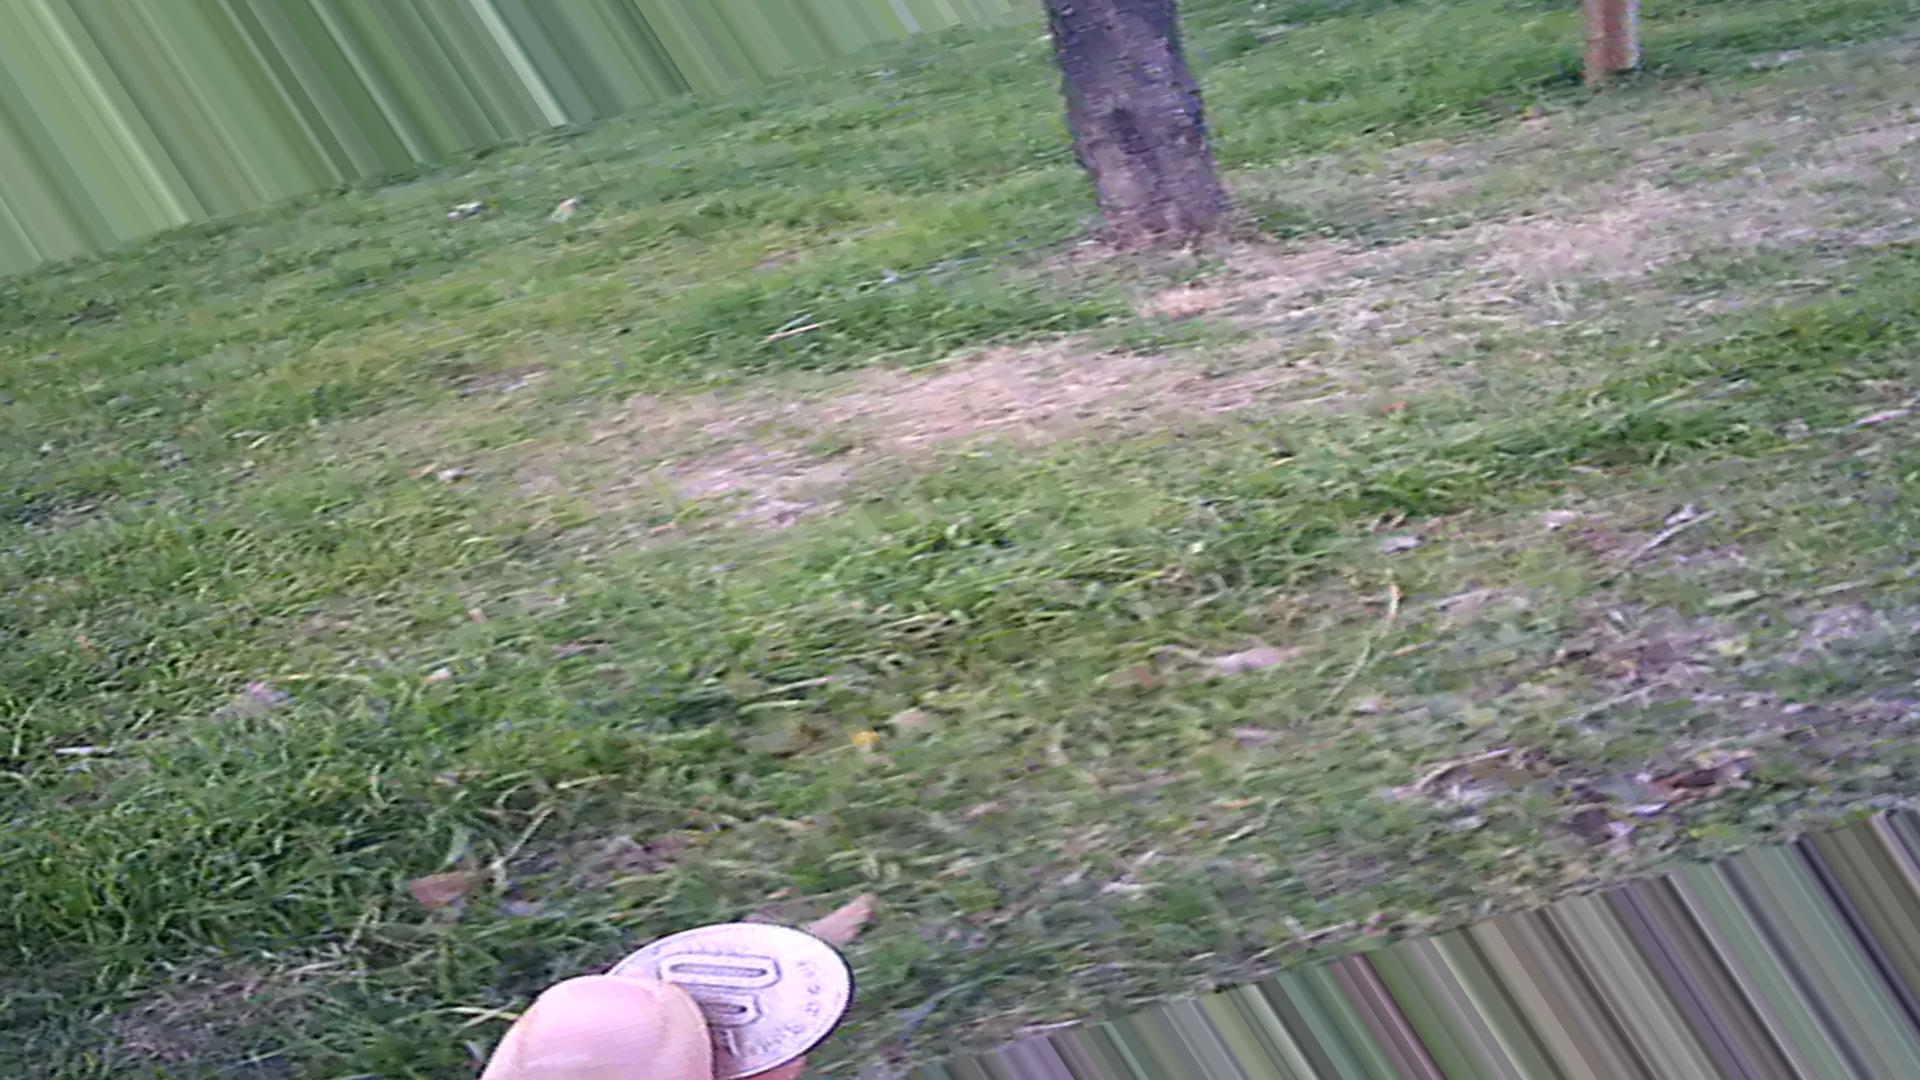100 Yen: (589, 926, 865, 1079)
